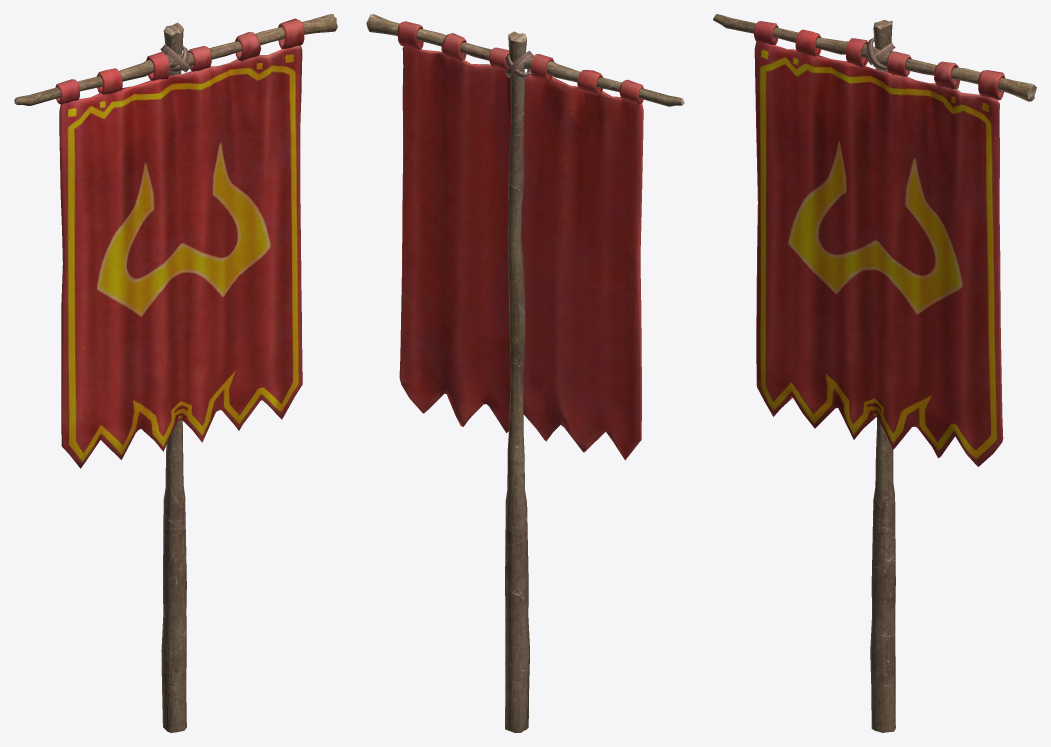
The picture shows the model from 3 angles, left to right: view 1: azimuth 30°, elevation 25°; view 2: azimuth 150°, elevation 25°; view 3: azimuth 330°, elevation 25°; orthographic projection.
Parts seen in each view (by area): view 1: SM_Double_Banner_Zamorak_02v2_LOD0; view 2: SM_Double_Banner_Zamorak_02v2_LOD0; view 3: SM_Double_Banner_Zamorak_02v2_LOD0.
Part boxes in pixels (x1,y1,x2,y2): SM_Double_Banner_Zamorak_02v2_LOD0: [14, 14, 337, 732]; SM_Double_Banner_Zamorak_02v2_LOD0: [366, 14, 684, 732]; SM_Double_Banner_Zamorak_02v2_LOD0: [713, 14, 1036, 732].
Bounding box in the file's own units: 2.08 × 4.39 × 0.1861.
Materials: 3 (3 with a texture image).
